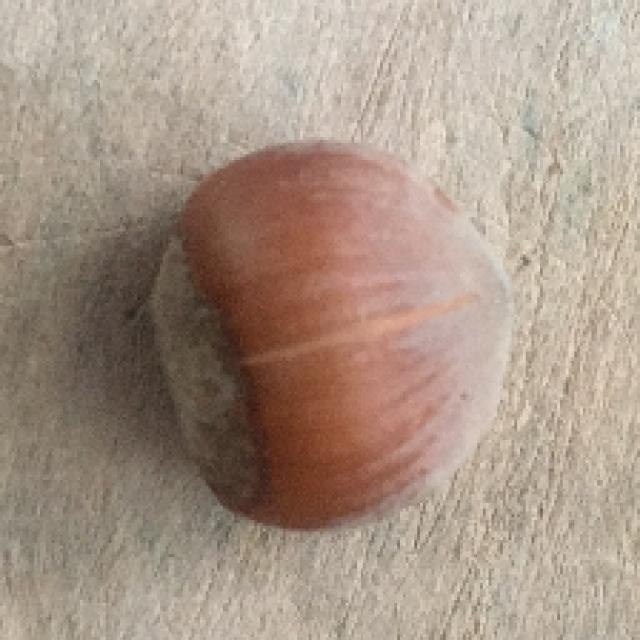QualityHazelnut: (150, 134, 518, 533)
